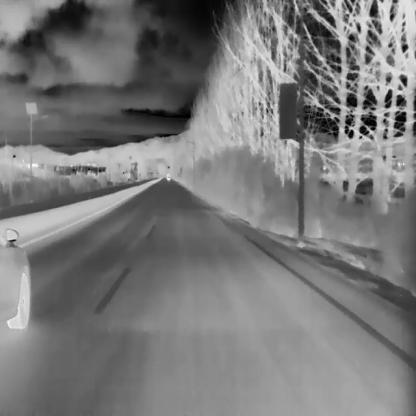car: (0, 228, 29, 328)
